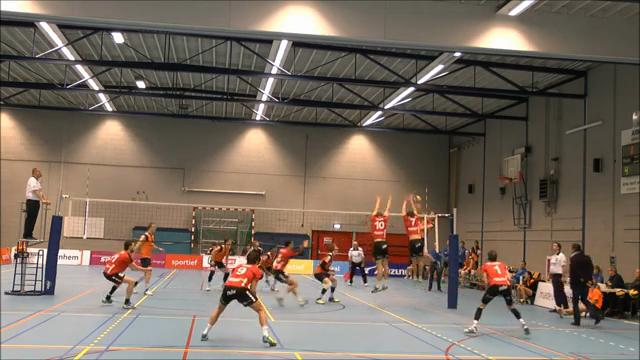Attack: (416, 199, 437, 250)
Block: (364, 188, 395, 296), (397, 189, 427, 285)
Player: (201, 252, 276, 346), (464, 250, 529, 334), (102, 240, 150, 308), (272, 240, 307, 305), (314, 243, 339, 303), (205, 239, 232, 290), (136, 223, 163, 269), (260, 246, 277, 290), (247, 240, 263, 255)
ball: (411, 193, 423, 205)
